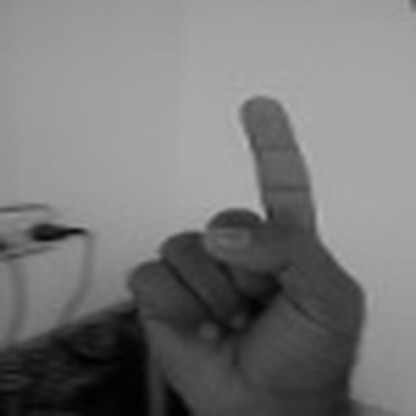d: (120, 81, 392, 416)
